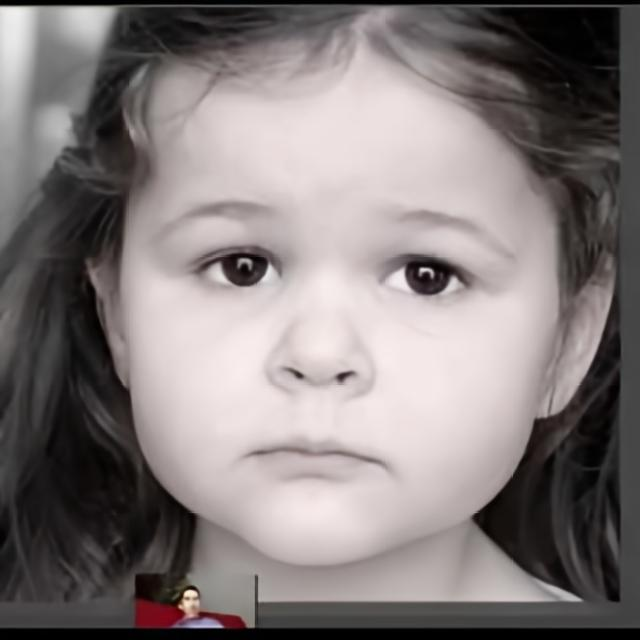sad: (119, 15, 560, 568)
